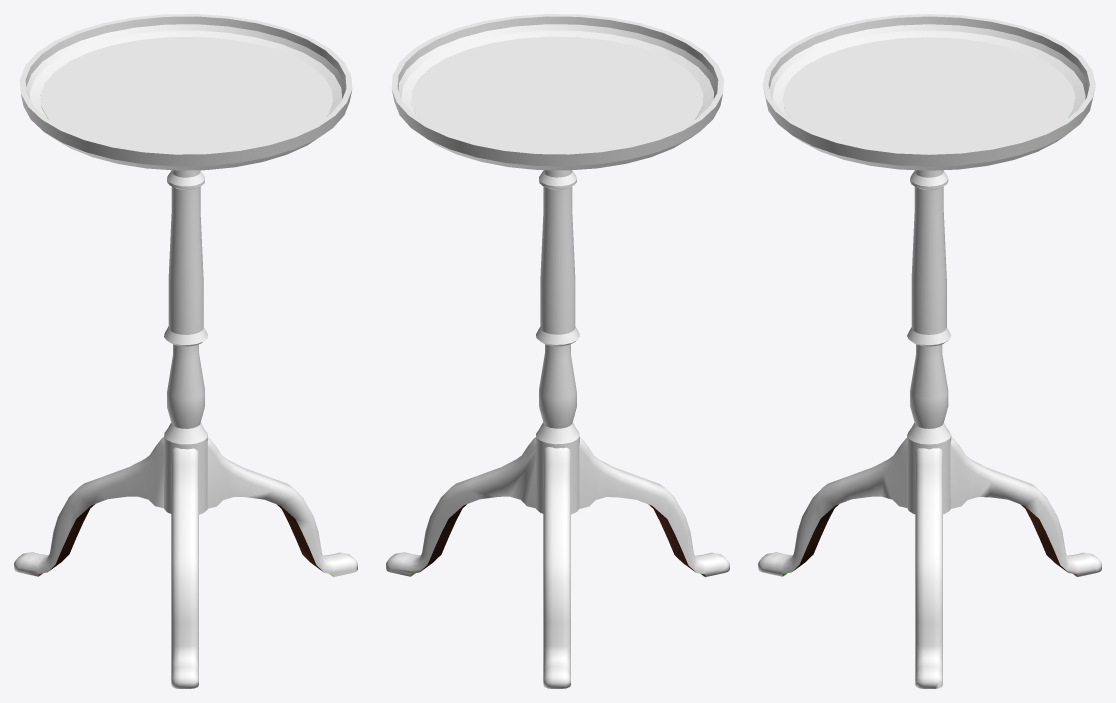
Rendered from Beistelltisch.fbx.
3 renders of one model, left to right at view 1: azimuth 30°, elevation 25°; view 2: azimuth 150°, elevation 25°; view 3: azimuth 270°, elevation 25°, orthographic.
Parts seen in each view (by area): view 1: pedestal.dxf_001; view 2: pedestal.dxf_001; view 3: pedestal.dxf_001.
Part boxes in pixels (left/top/right/bottom): pedestal.dxf_001: left=14, top=14, right=357, bottom=688; pedestal.dxf_001: left=386, top=14, right=729, bottom=688; pedestal.dxf_001: left=758, top=14, right=1101, bottom=688.
Bounding box in the file's own units: 17.27 × 27.61 × 16.46.
